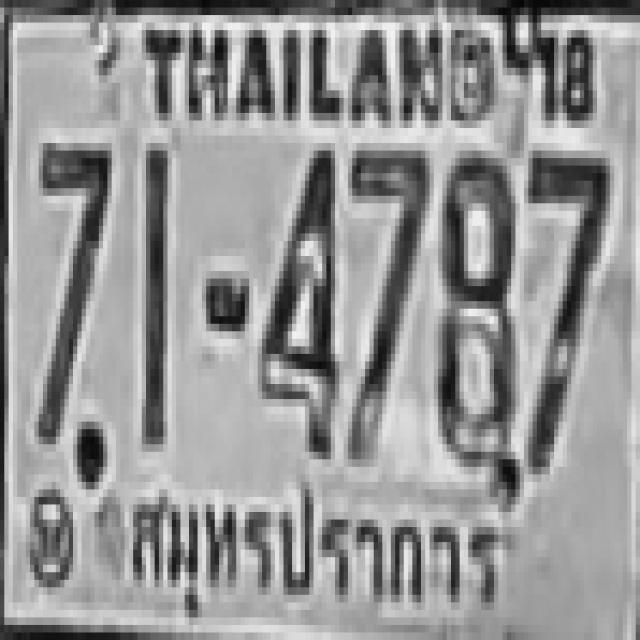1: (140, 143, 166, 444)
4: (258, 143, 335, 444)
7: (524, 143, 606, 467), (348, 143, 425, 452), (34, 140, 108, 440)
8: (434, 143, 511, 459)
SamutPrakan: (126, 477, 504, 627)
